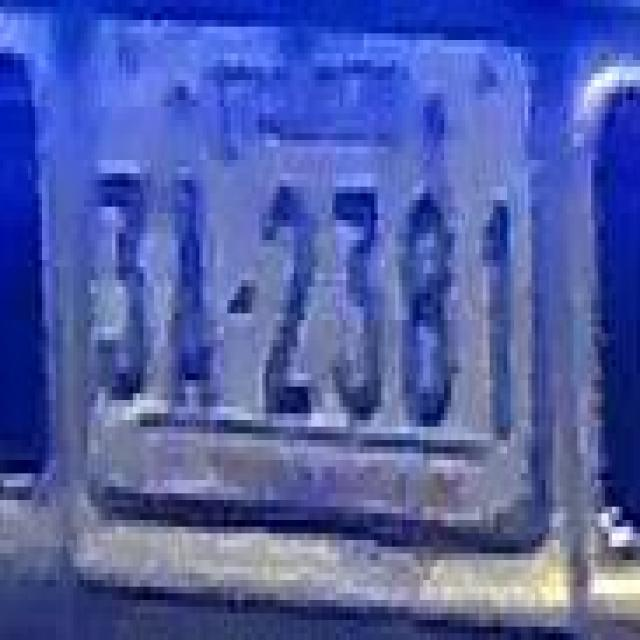Preah_Sihanouk: (207, 33, 414, 166)
